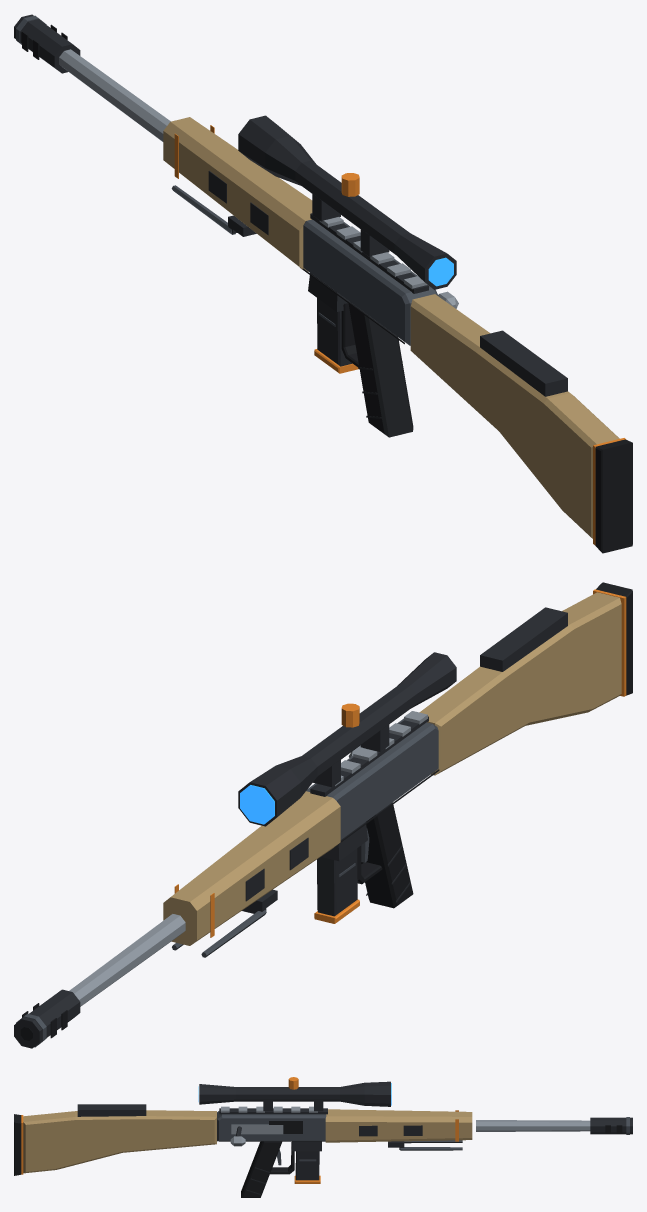
The model's file is sniper.glb.
The picture shows the model from 3 angles, top to bottom: view 1: azimuth 30°, elevation 25°; view 2: azimuth 150°, elevation 25°; view 3: azimuth 270°, elevation 25°; orthographic projection. The views are drawn at different scales.
Parts seen in each view (by area): view 1: Body, Scope, Magazine, Bipod; view 2: Body, Scope, Magazine, Bipod; view 3: Body, Scope, Magazine, Bolt, Bipod.
Part boxes in pixels (x1,y1,x2,y2): Body: (14,14,632,553); Scope: (238,115,456,289); Magazine: (314,298,358,373); Bipod: (171,185,256,236); Body: (14,582,632,1048); Scope: (238,652,456,826); Magazine: (314,848,359,923); Bipod: (172,889,277,957); Body: (14,1104,632,1197); Scope: (198,1077,391,1111); Magazine: (294,1151,320,1183); Bolt: (230,1124,283,1146); Bipod: (388,1140,462,1150).
Size of the model in its own units: 0.0925 by 0.2705 by 1.31.
